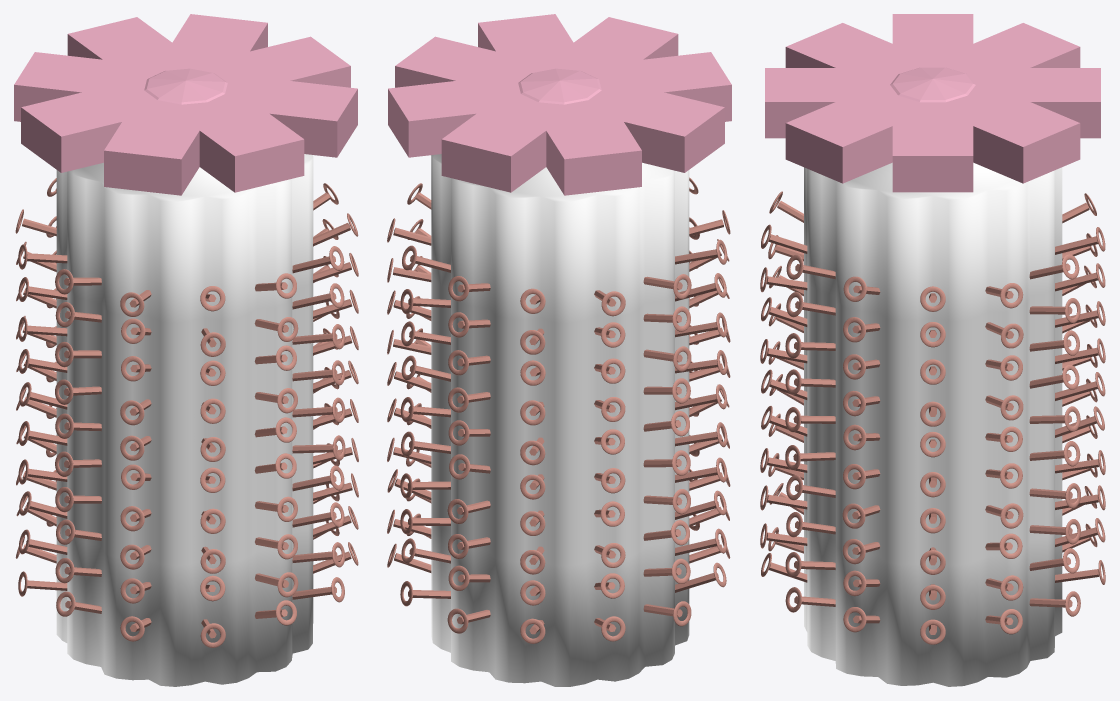
3 renders of one model, left to right at view 1: azimuth 30°, elevation 25°; view 2: azimuth 150°, elevation 25°; view 3: azimuth 270°, elevation 25°, orthographic.
Parts seen in each view (by area): view 1: FishhookCactus; view 2: FishhookCactus; view 3: FishhookCactus.
Boxes of the visible parts, x1=… form: FishhookCactus: x1=14, y1=14, x2=358, y2=686; FishhookCactus: x1=387, y1=14, x2=731, y2=686; FishhookCactus: x1=760, y1=14, x2=1105, y2=686.
Size of what is drawn, in the model's own units: 0.5114 by 0.91 by 0.5143.
